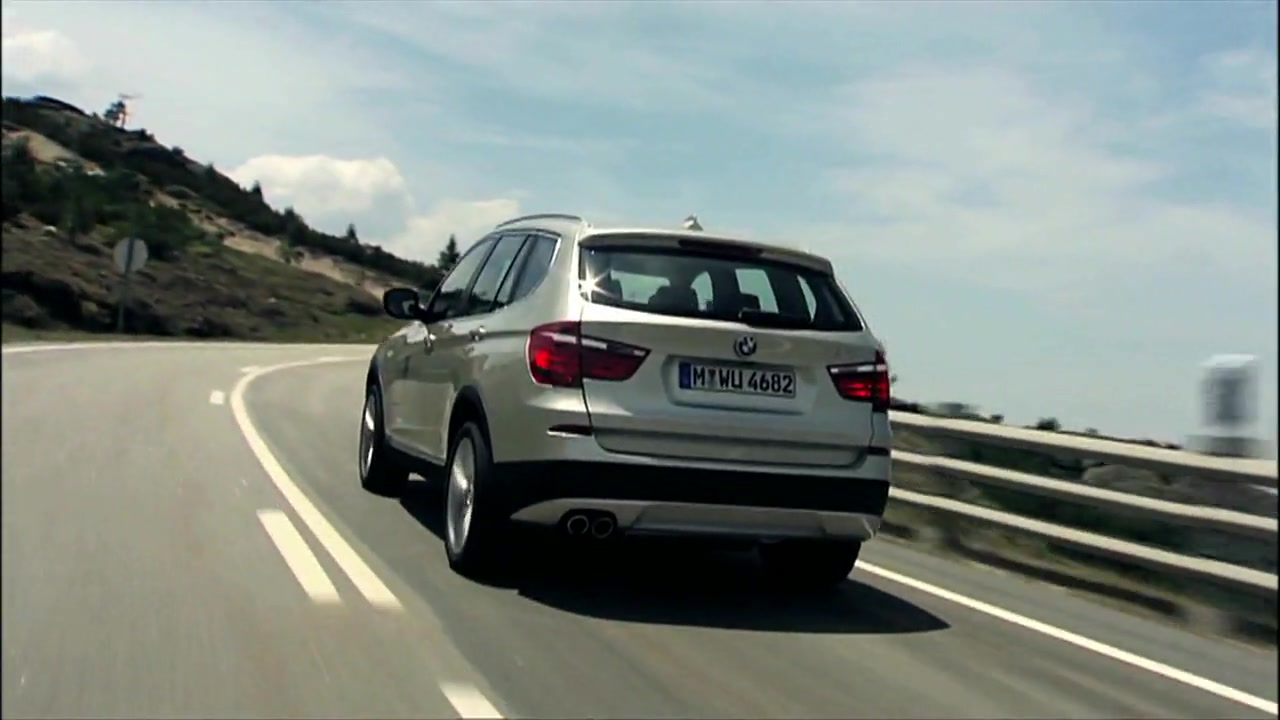car: (357, 214, 895, 583)
